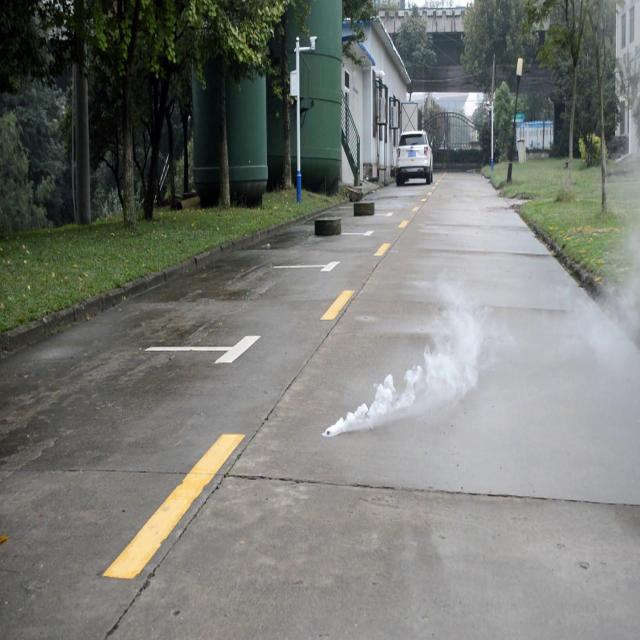smoke: (322, 268, 513, 437), (542, 225, 638, 365)
